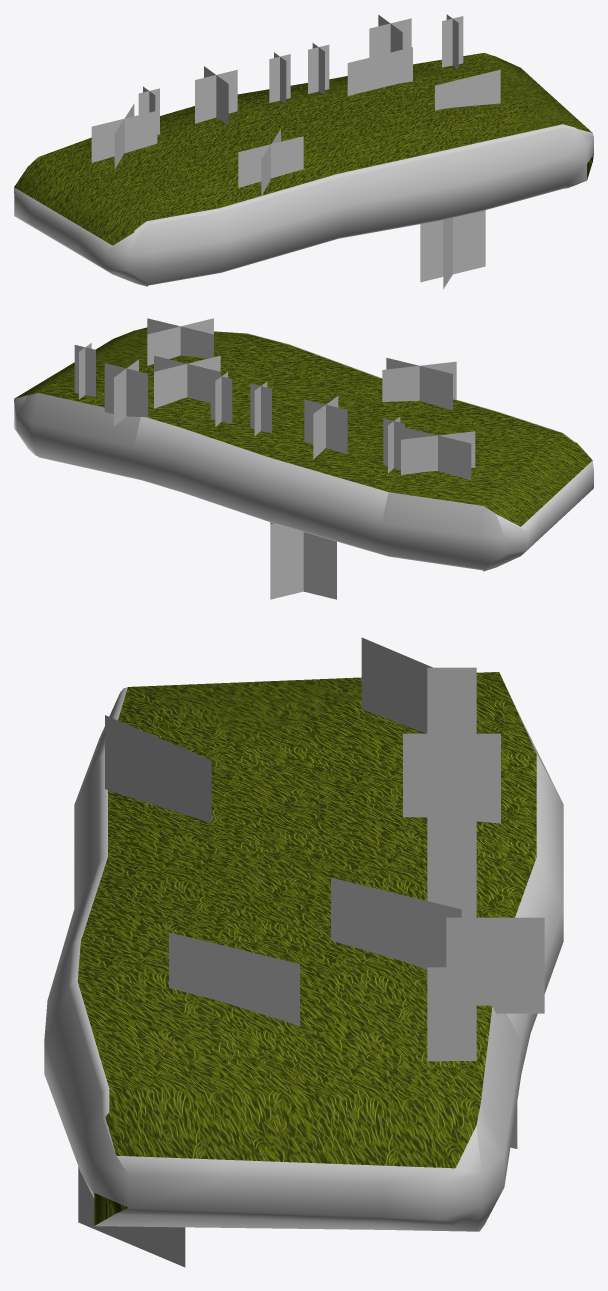
The model's file is platform2_floating_island1.fbx.
3 views of the same model, one above another, from view 1: azimuth 30°, elevation 25°; view 2: azimuth 150°, elevation 25°; view 3: azimuth 270°, elevation 25° (orthographic). The views are drawn at different scales.
Visible parts, largest first — view 1: Mesh; view 2: Mesh; view 3: Mesh.
Part boxes in pixels (left/top/right/bottom): Mesh: left=14, top=14, right=593, bottom=288; Mesh: left=14, top=318, right=593, bottom=599; Mesh: left=44, top=637, right=563, bottom=1267.
Size of the model in its own units: 973 by 350 by 430.
